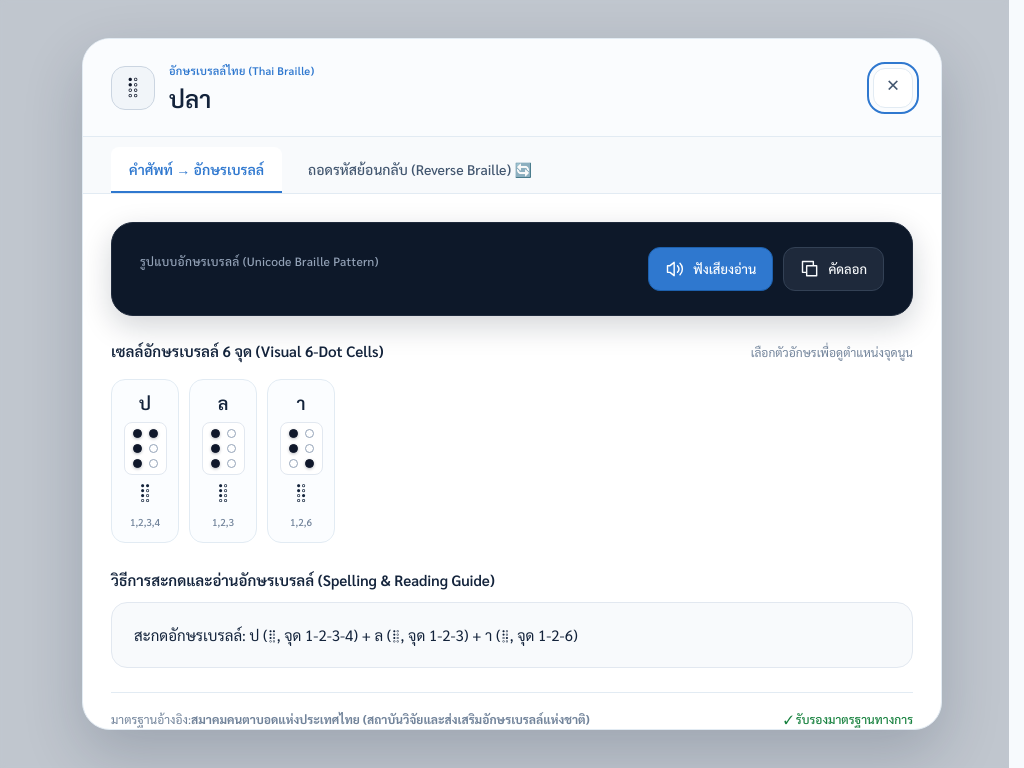
Test: BrailleModal Component - Reverse Braille Mode › updates decoded text in real-time when typing in the Braille input field
The image size is (1024, 768).
Click the tab "ถอดรหัสย้อนกลับ (Reverse Braille) 🔄": (420, 170) 290,147 -> 550,193
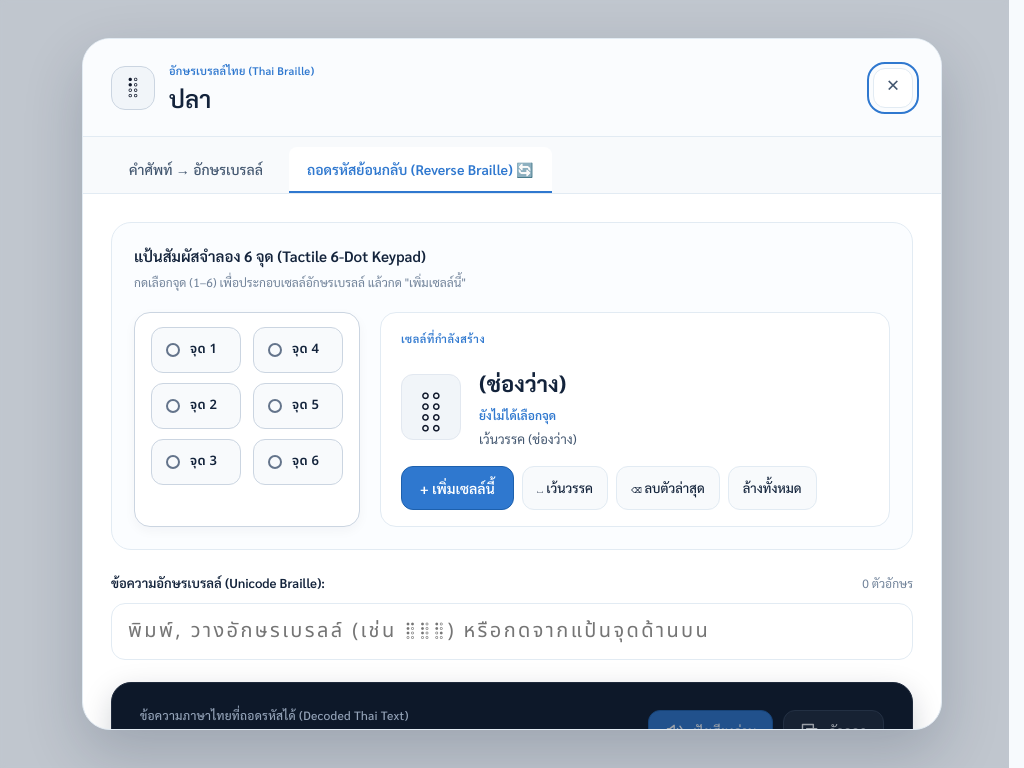
In the field named "กล่องข้อความอักษรเบรลล์": (512, 632) 111,603 -> 913,660, type "⠏⠇⠣"
(page scrolled)
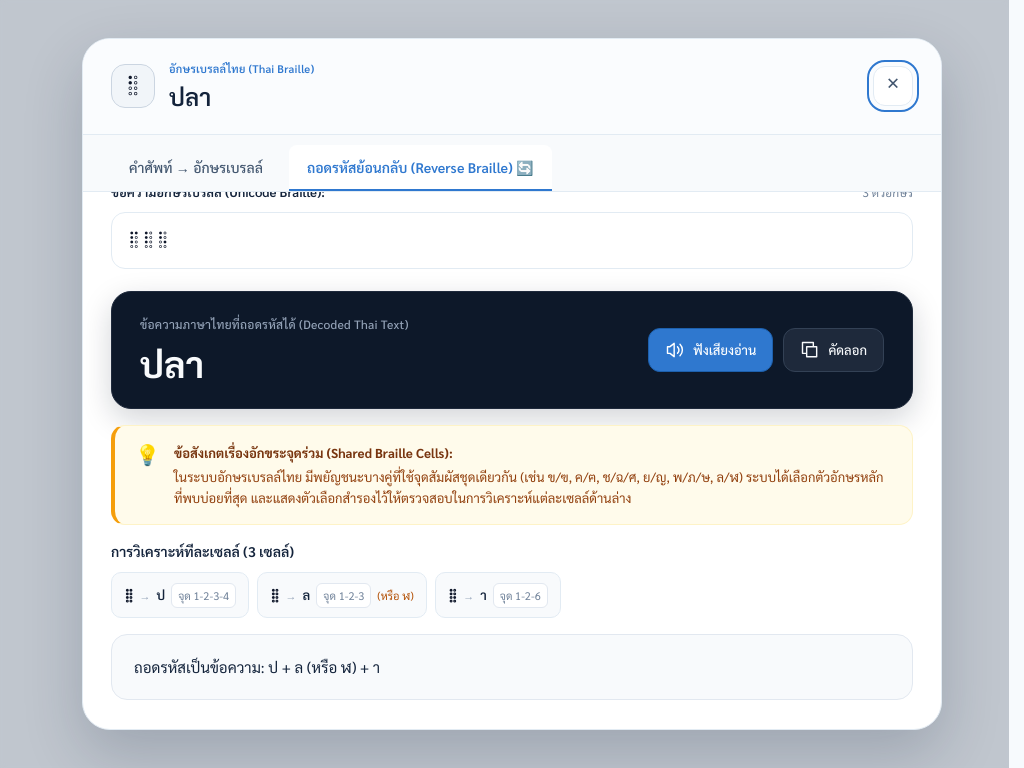
Expected: the element named "ข้อความที่ถอดรหัสได้: ปลา" is shown, 140,340 -> 204,386
Expected: the heading "การวิเคราะห์ทีละเซลล์ (3 เซลล์)" is shown, 111,542 -> 294,560
